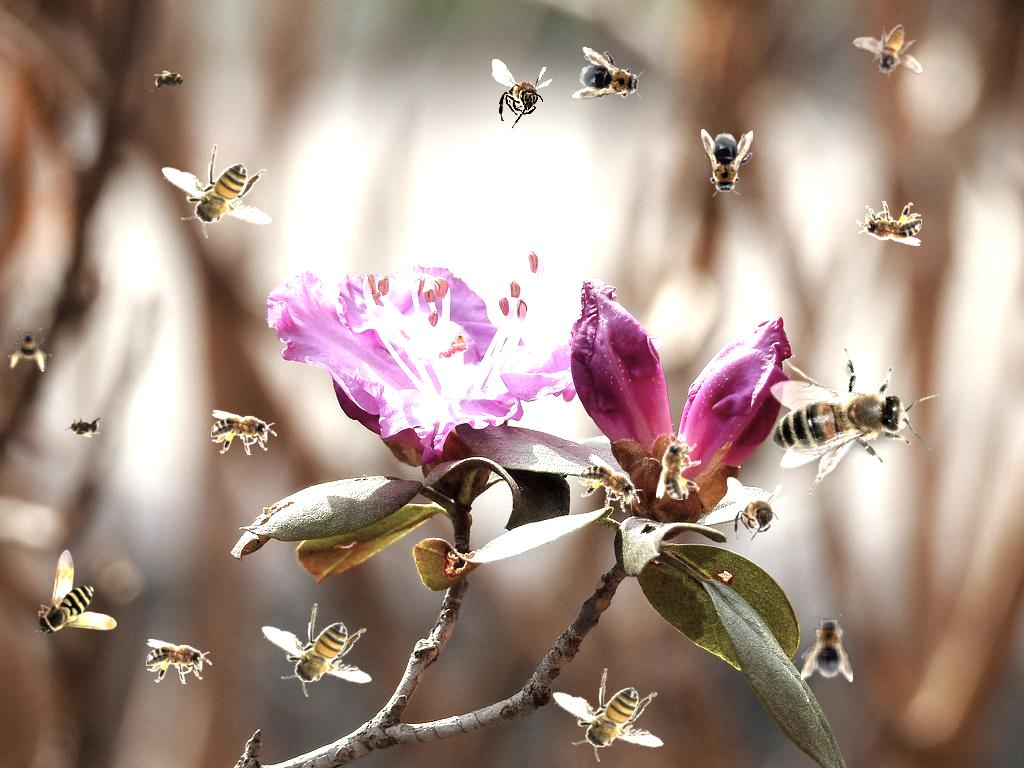Bee: (730, 300, 963, 534), (551, 667, 664, 763), (161, 144, 272, 238), (261, 603, 372, 697), (850, 8, 936, 95), (35, 549, 117, 637), (571, 452, 651, 521), (572, 46, 648, 110), (492, 59, 553, 129), (727, 477, 788, 547), (701, 129, 753, 197), (801, 614, 853, 682), (656, 434, 701, 500), (856, 201, 922, 246), (211, 410, 277, 455), (146, 639, 212, 684), (8, 328, 52, 372), (64, 416, 104, 438), (150, 70, 190, 92)
